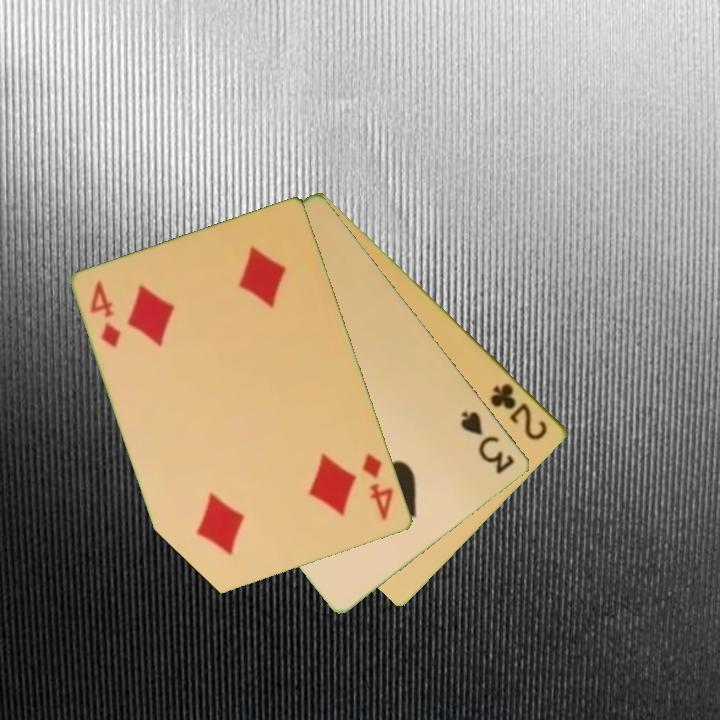2c: (487, 379, 551, 443)
3s: (457, 407, 518, 478)
4d: (359, 449, 397, 524), (87, 277, 124, 351)
